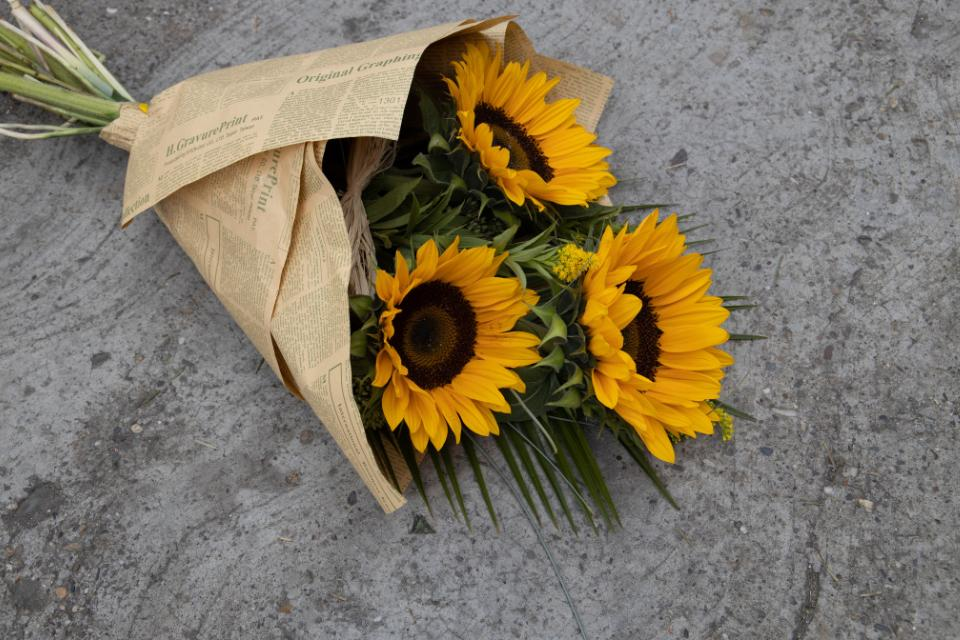sunflower: (567, 207, 734, 464), (369, 234, 542, 453), (437, 39, 616, 213)
